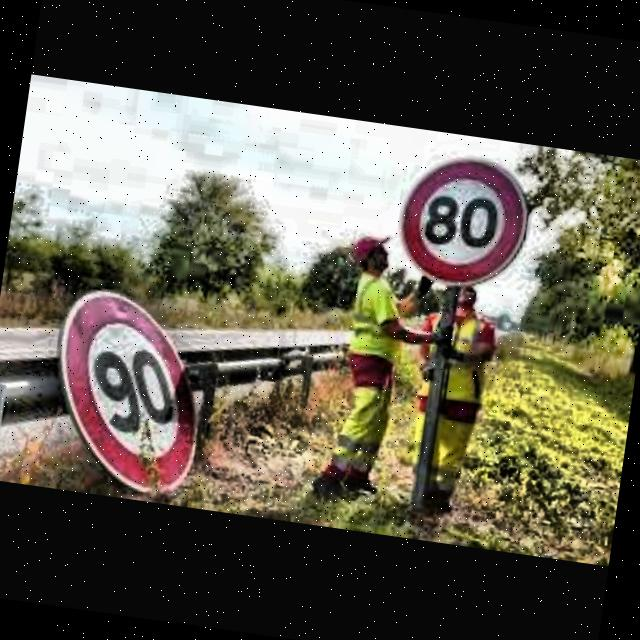speed_80: (402, 159, 526, 285)
speed_90: (65, 293, 195, 493)
